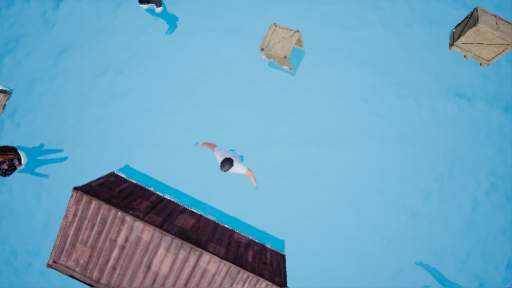person: (192, 139, 265, 194)
